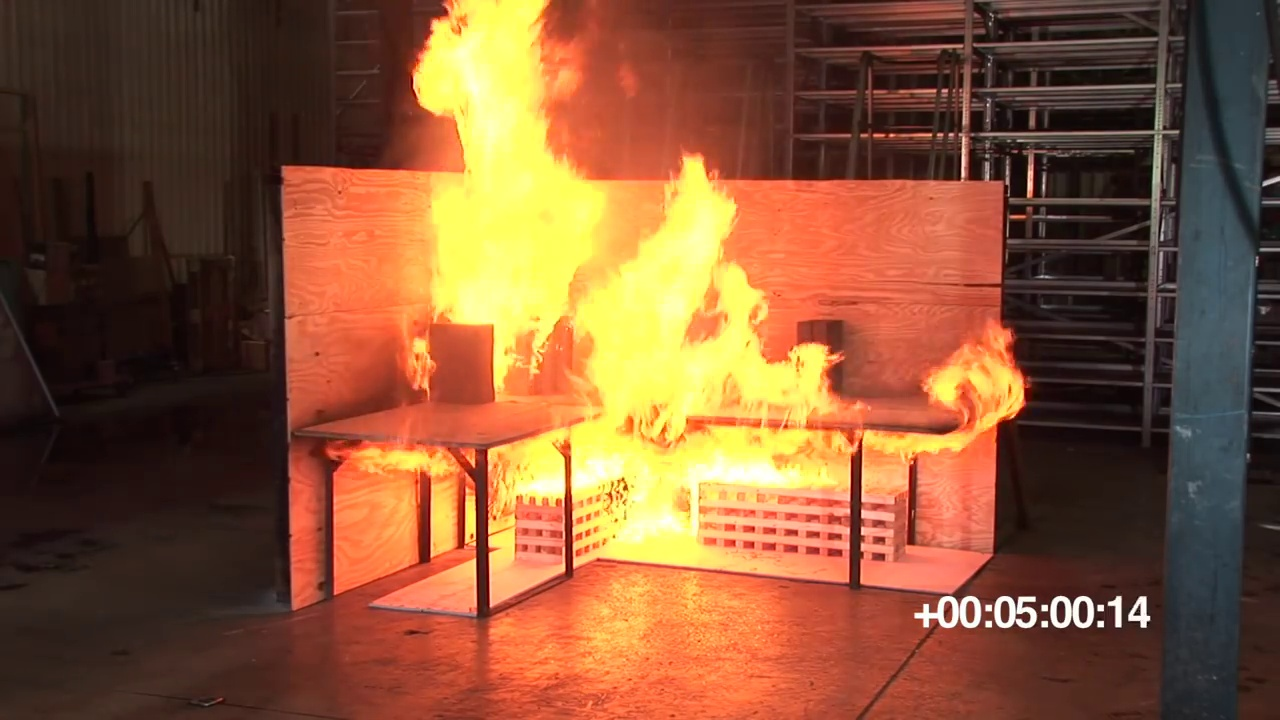fire: (587, 153, 839, 423), (411, 1, 579, 326), (887, 327, 1027, 453)
